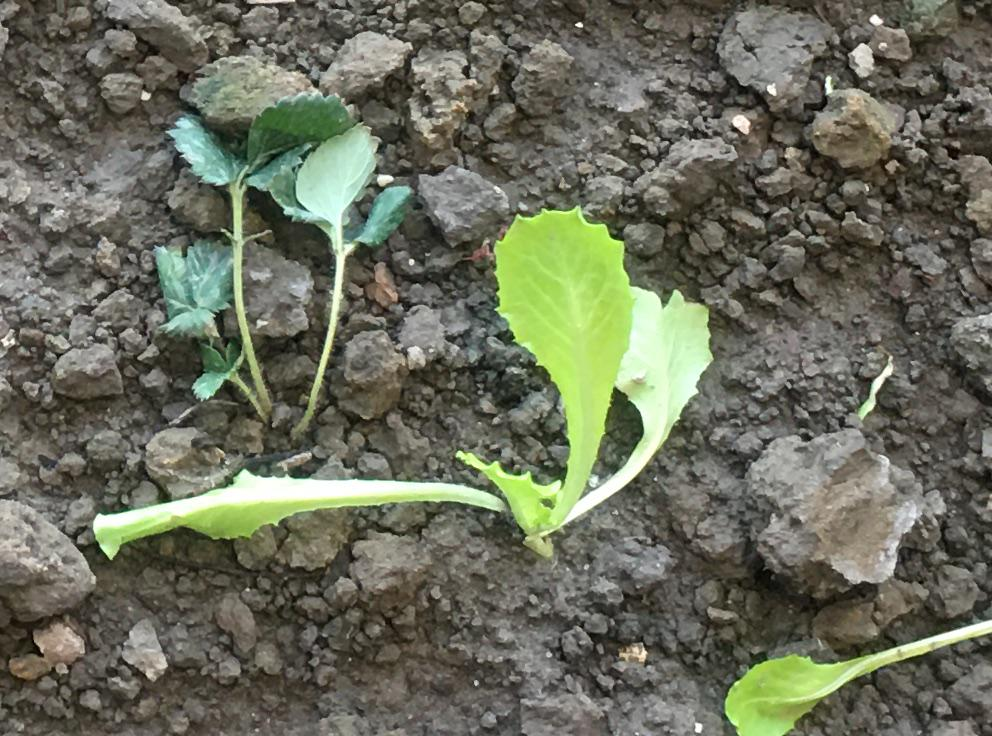block: (747, 429, 911, 599), (1, 498, 92, 623), (182, 56, 322, 125), (813, 83, 898, 175), (415, 163, 503, 244)
